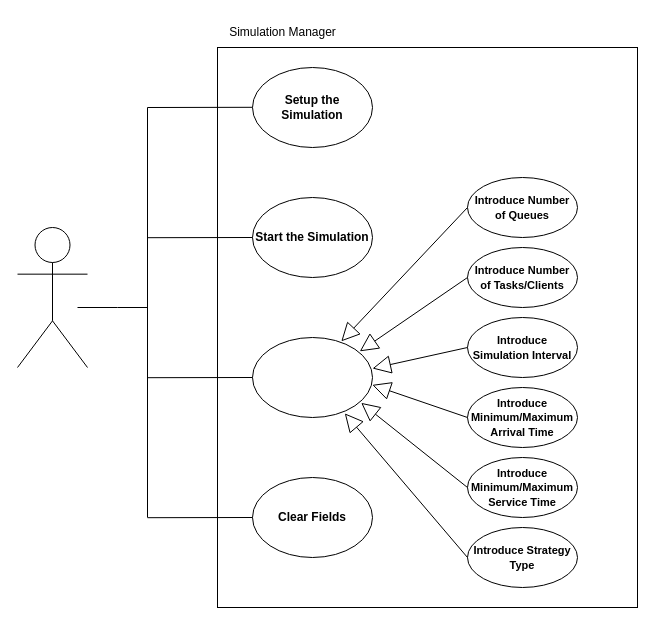
This 655x625 diagram has some shape labels left out. The shapes that lost their labels are listed below. From the top down, each one's centre as x and y in pixels, then its label:
point (52, 297): User
point (312, 377): Introduce Data
